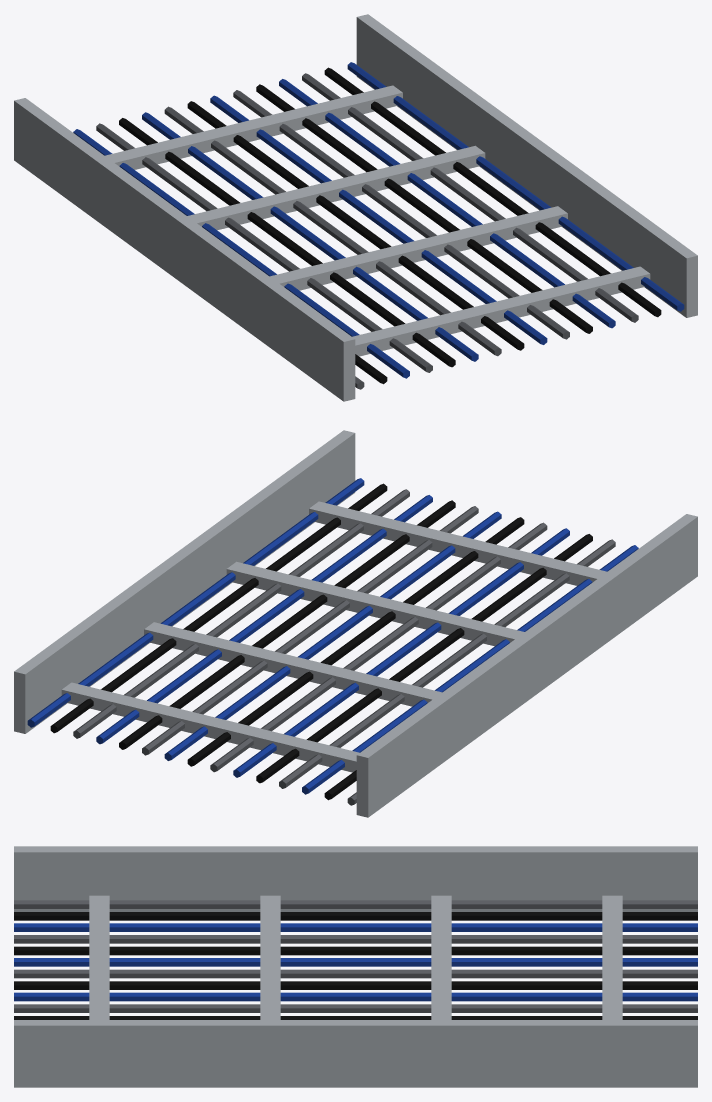
Rendered from services.tray.ladder_600.glb.
The picture shows the model from 3 angles, top to bottom: view 1: azimuth 30°, elevation 25°; view 2: azimuth 150°, elevation 25°; view 3: azimuth 270°, elevation 25°; orthographic projection. The views are drawn at different scales.
Visible parts, largest first — view 1: main__steel_galvanised, main__plastic_blue, main__plastic_black, main__plastic_grey; view 2: main__steel_galvanised, main__plastic_blue, main__plastic_black, main__plastic_grey; view 3: main__steel_galvanised, main__plastic_grey, main__plastic_black, main__plastic_blue.
Boxes of the visible parts, <box> form: main__steel_galvanised: <box>14,14,697,401</box>; main__plastic_blue: <box>73,62,684,378</box>; main__plastic_black: <box>119,67,661,384</box>; main__plastic_grey: <box>96,73,638,389</box>; main__steel_galvanised: <box>14,430,697,817</box>; main__plastic_blue: <box>27,478,638,794</box>; main__plastic_black: <box>50,483,592,800</box>; main__plastic_grey: <box>73,489,615,805</box>; main__steel_galvanised: <box>14,846,697,1087</box>; main__plastic_grey: <box>14,900,697,1012</box>; main__plastic_black: <box>14,912,697,1019</box>; main__plastic_blue: <box>14,923,697,1001</box>.
Size of the model in its own units: 0.62 by 0.1 by 1.
